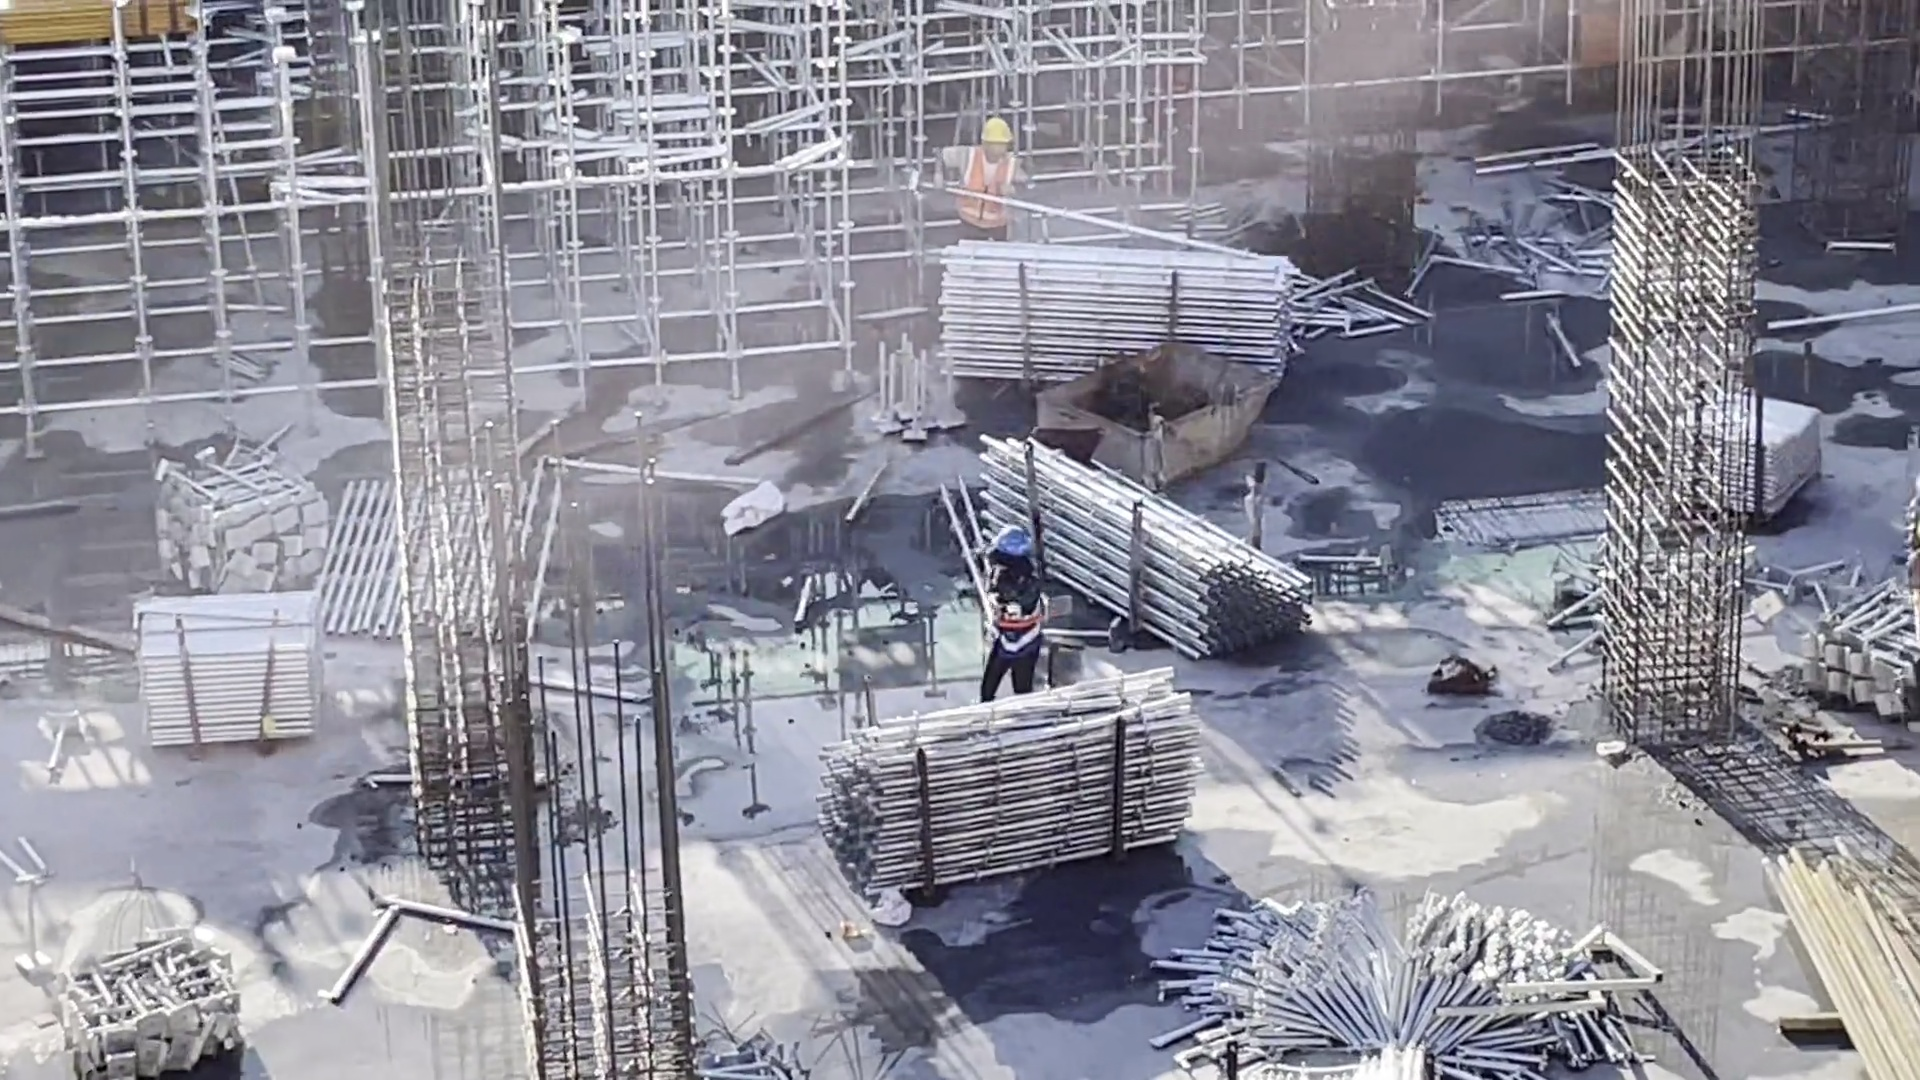helmet: (975, 528, 1048, 556), (977, 123, 1017, 143)
hopper: (1038, 345, 1291, 480)
person: (967, 523, 1051, 700), (955, 116, 1022, 237)
scaffold: (1169, 905, 1656, 1071), (986, 437, 1325, 660), (806, 702, 1204, 870), (932, 252, 1304, 405), (111, 594, 332, 747), (61, 911, 232, 1076), (149, 456, 335, 600), (1666, 392, 1843, 513), (1799, 587, 1920, 707)
vest: (962, 148, 1019, 235), (989, 583, 1045, 645)
